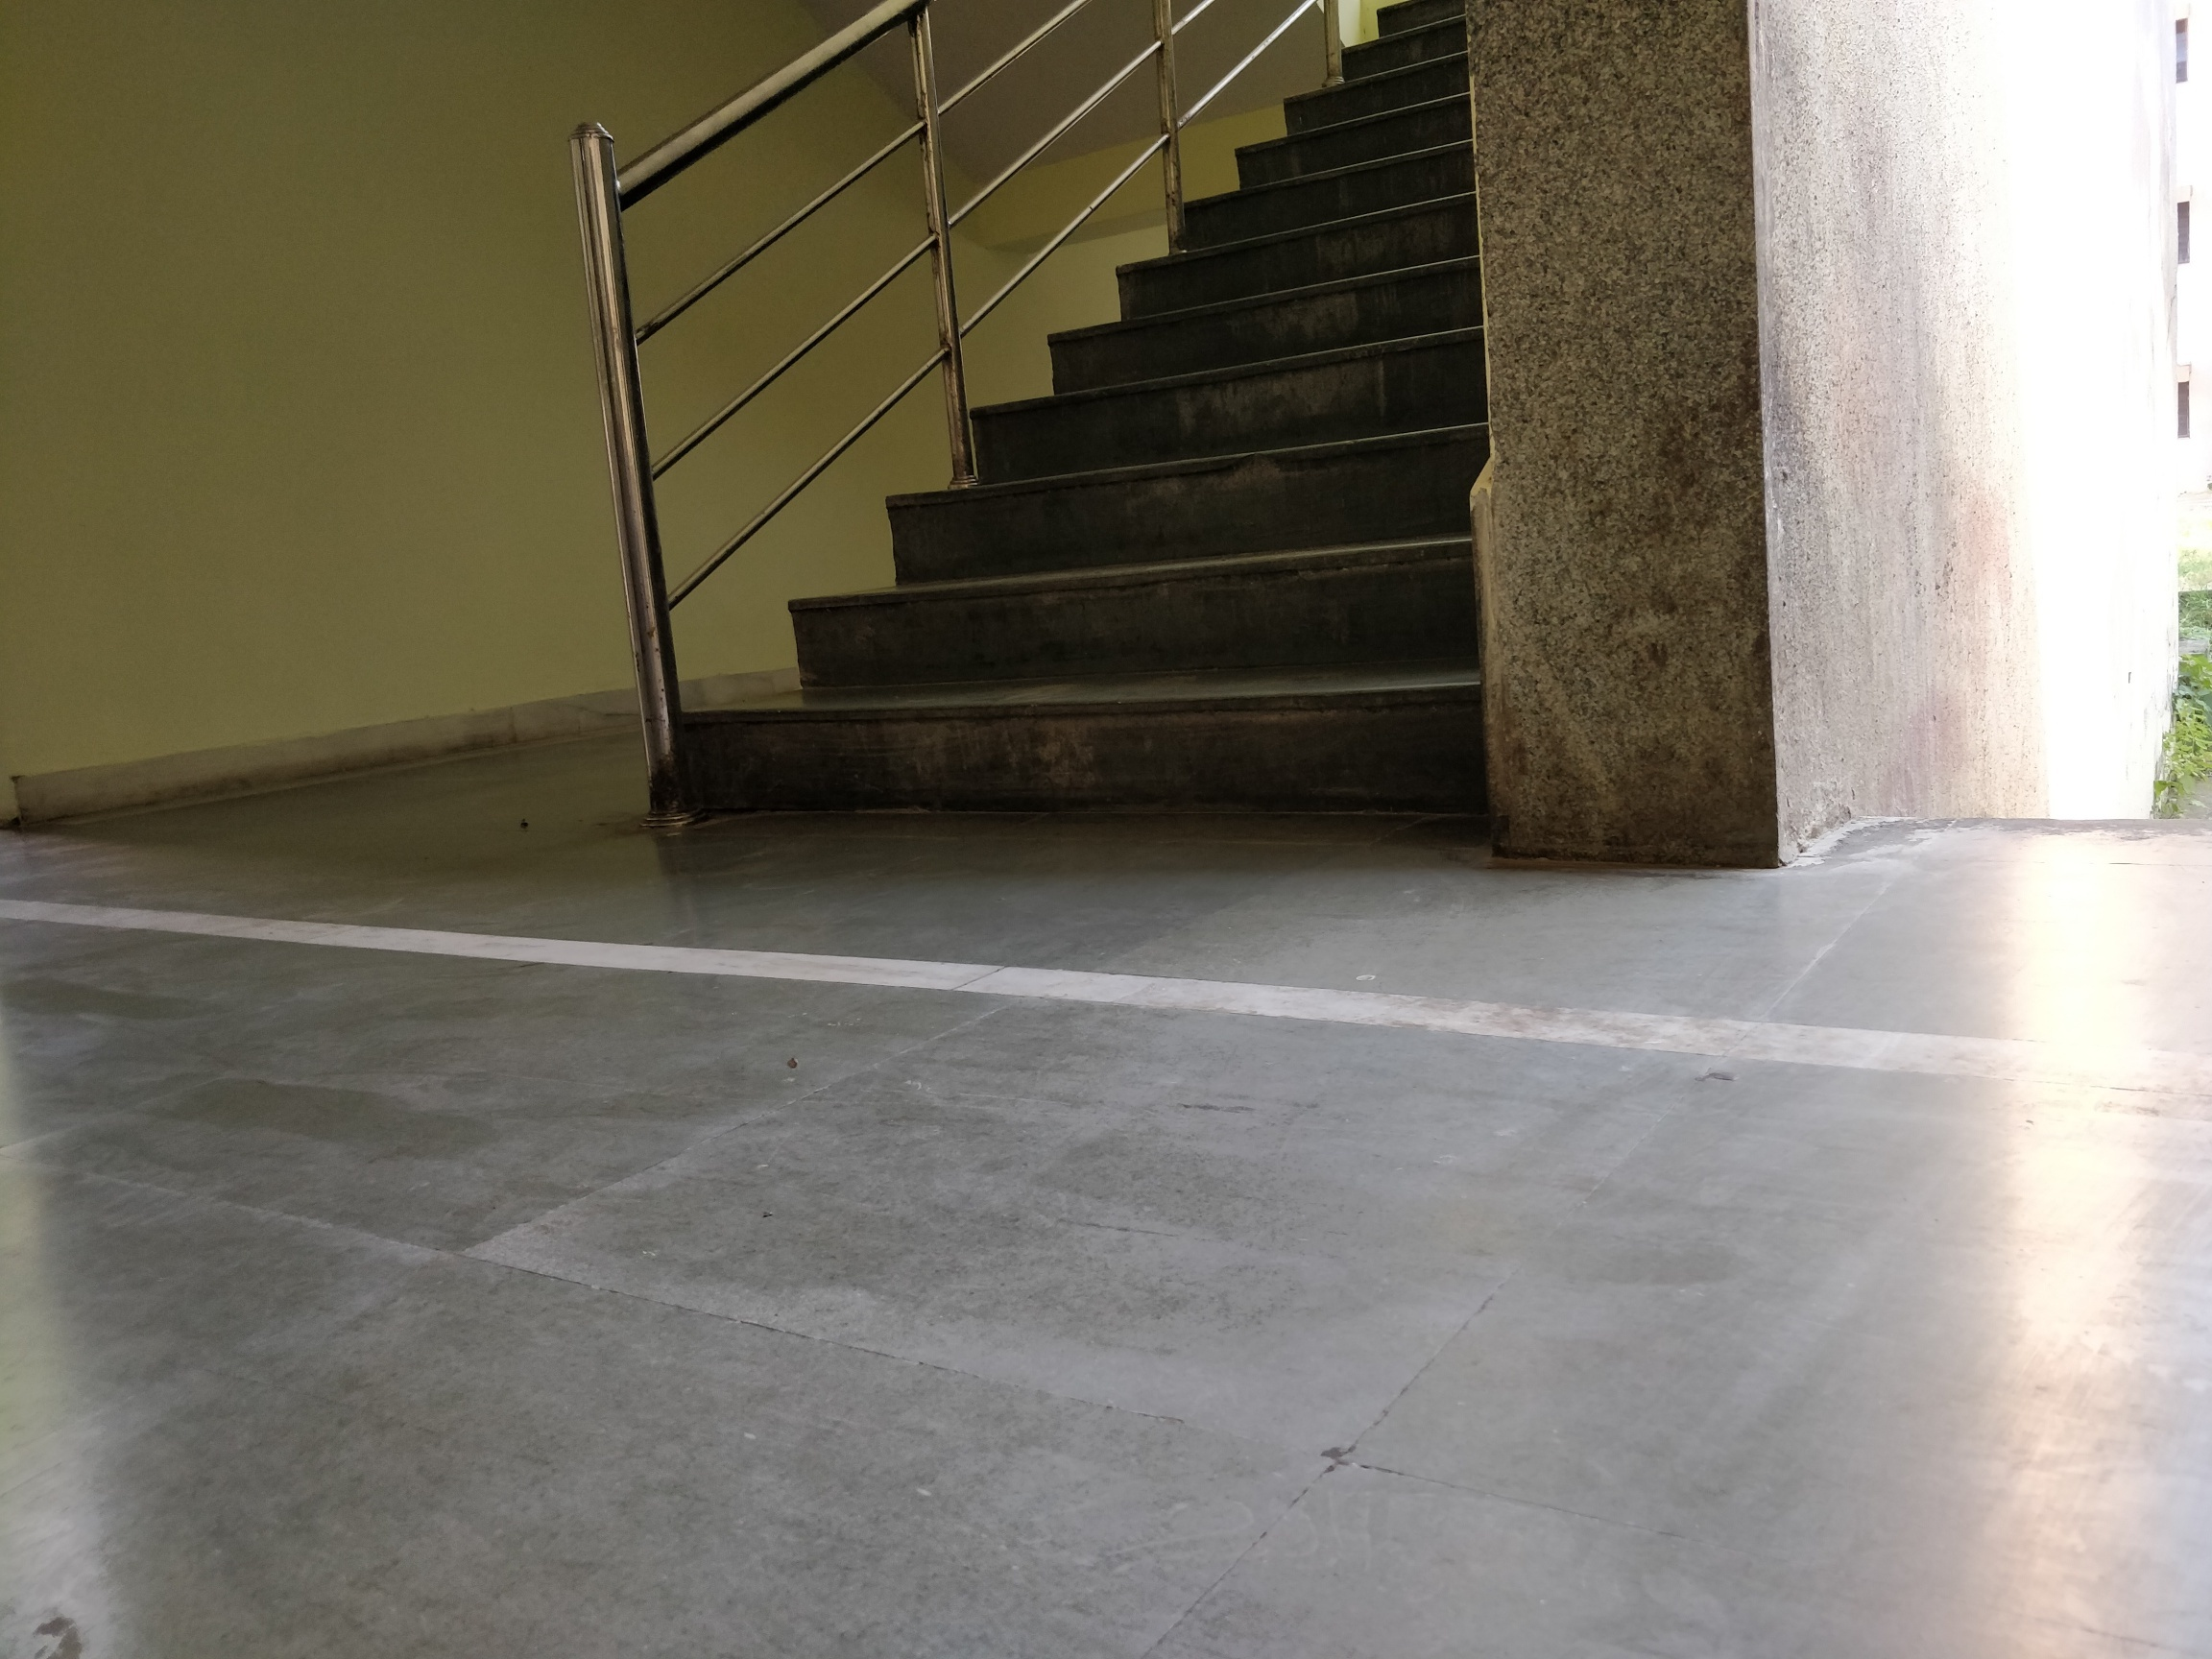stairs_up: (697, 21, 1467, 833)
